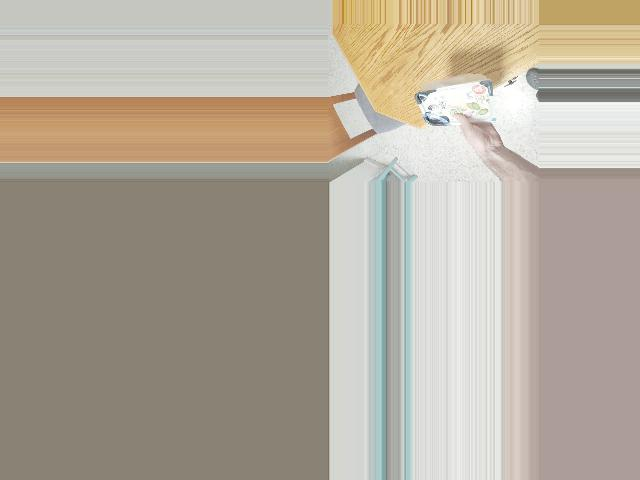cheese: (419, 78, 492, 134)
